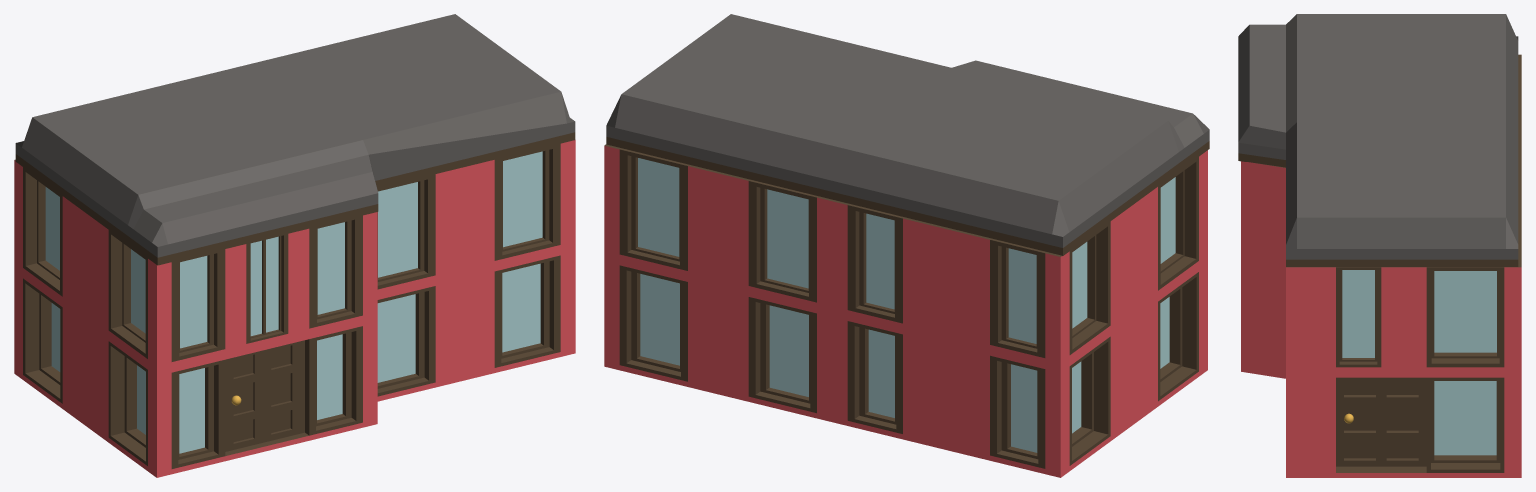
The model's file is pinkvilla.fbx.
The picture shows the model from 3 angles, left to right: view 1: azimuth 30°, elevation 25°; view 2: azimuth 150°, elevation 25°; view 3: azimuth 270°, elevation 25°; orthographic projection. The views are drawn at different scales.
Parts seen in each view (by area): view 1: Cube, Cube.001; view 2: Cube, Cube.001; view 3: Cube.001, Cube.
Part boxes in pixels (x1,y1,x2,y2): Cube: [14, 140, 575, 477]; Cube.001: [15, 14, 575, 265]; Cube: [604, 144, 1207, 477]; Cube.001: [606, 14, 1209, 255]; Cube.001: [1238, 14, 1518, 266]; Cube: [1241, 54, 1521, 477].
Bounding box in the file's own units: 6.24 × 3.5 × 3.51.
